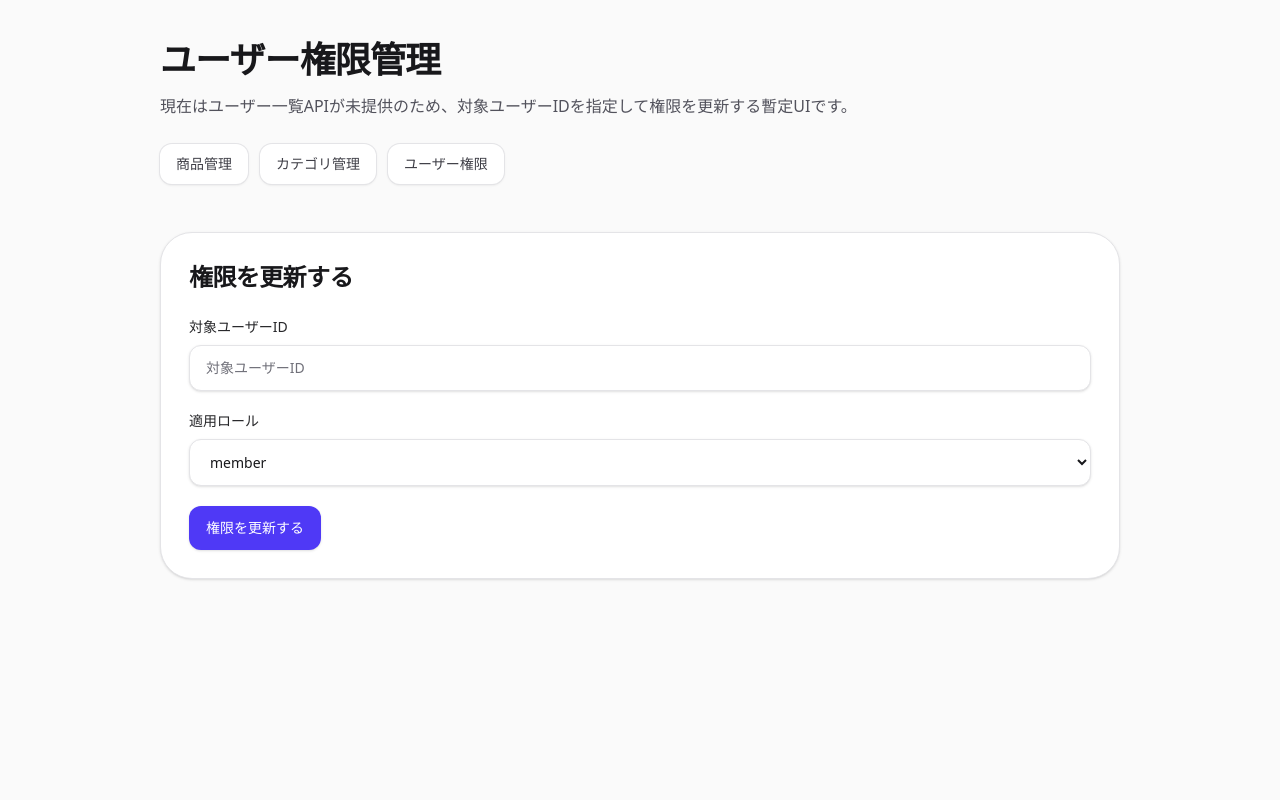
AdminUsersPage › ユーザー権限を更新できる
This screenshot has width=1280, height=800.
Type "42" into the number field with placeholder "対象ユーザーID" at [640, 368], box [189,345,1091,391]
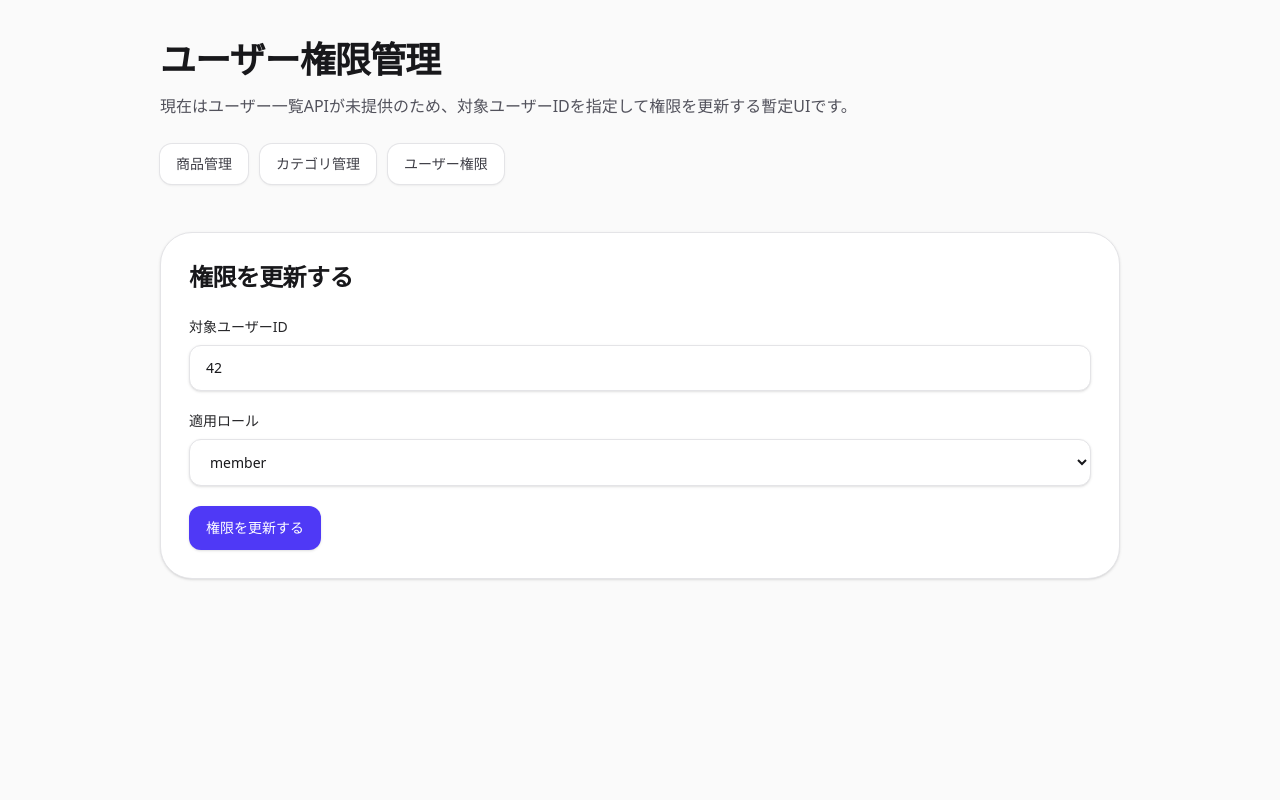
Select "admin" in the dropdown showing "member" at [640, 462], box [189,439,1091,486]
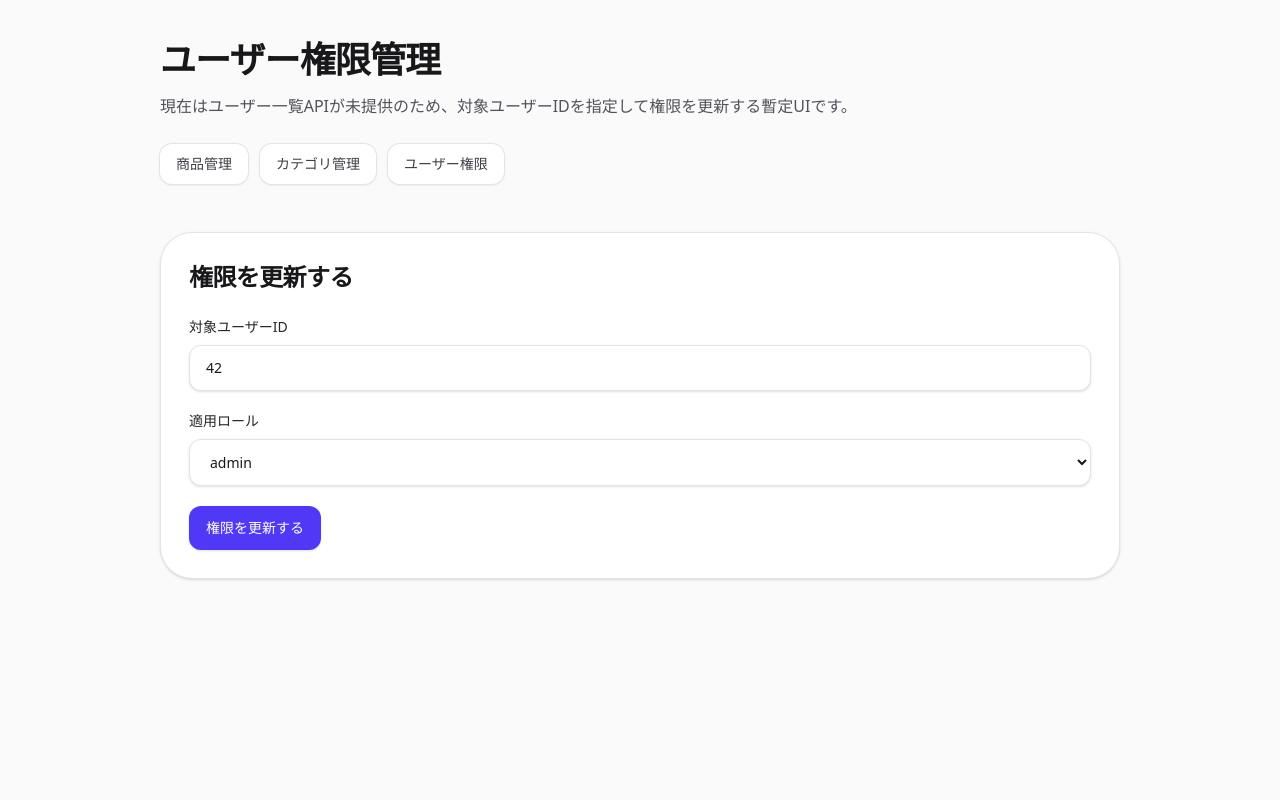
Click the button "権限を更新する" at [255, 528], box [189,506,321,550]
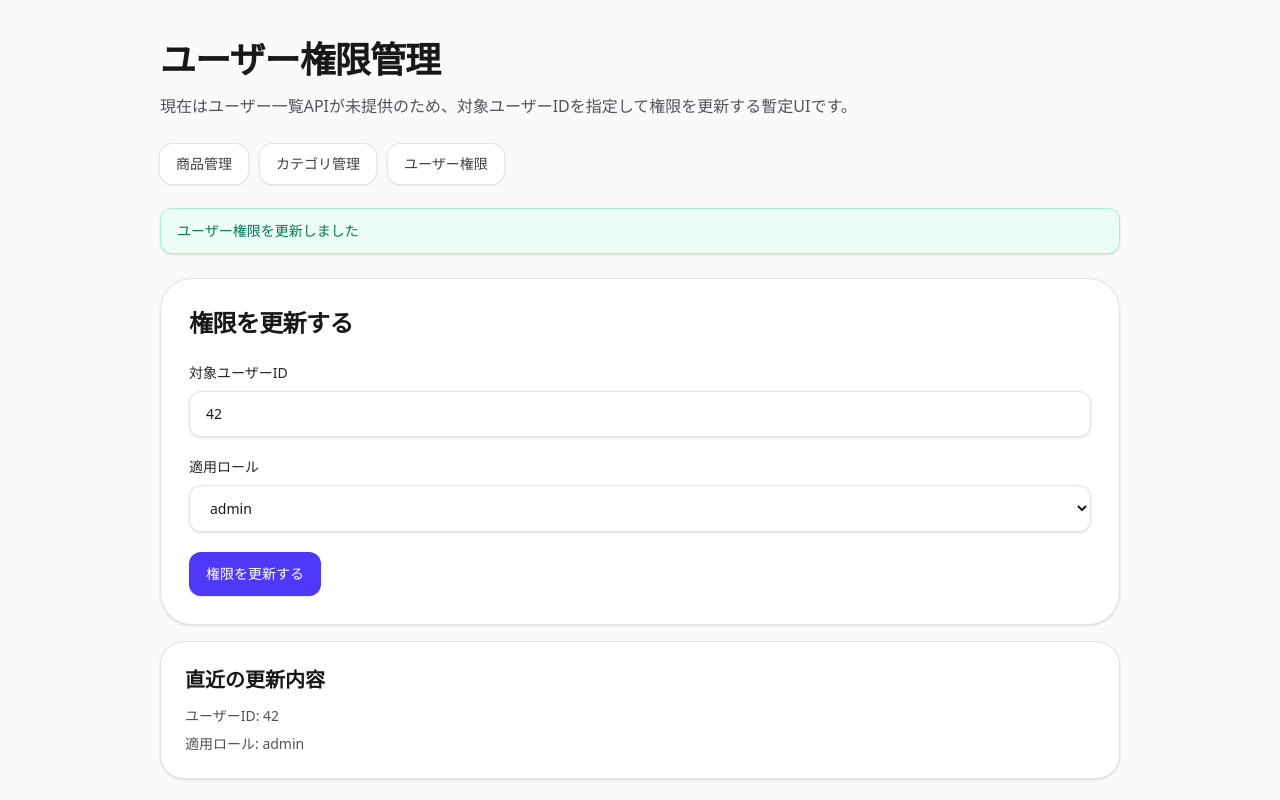
Expected: the text "ユーザー権限を更新しました" is shown, [160,208,1120,254]
